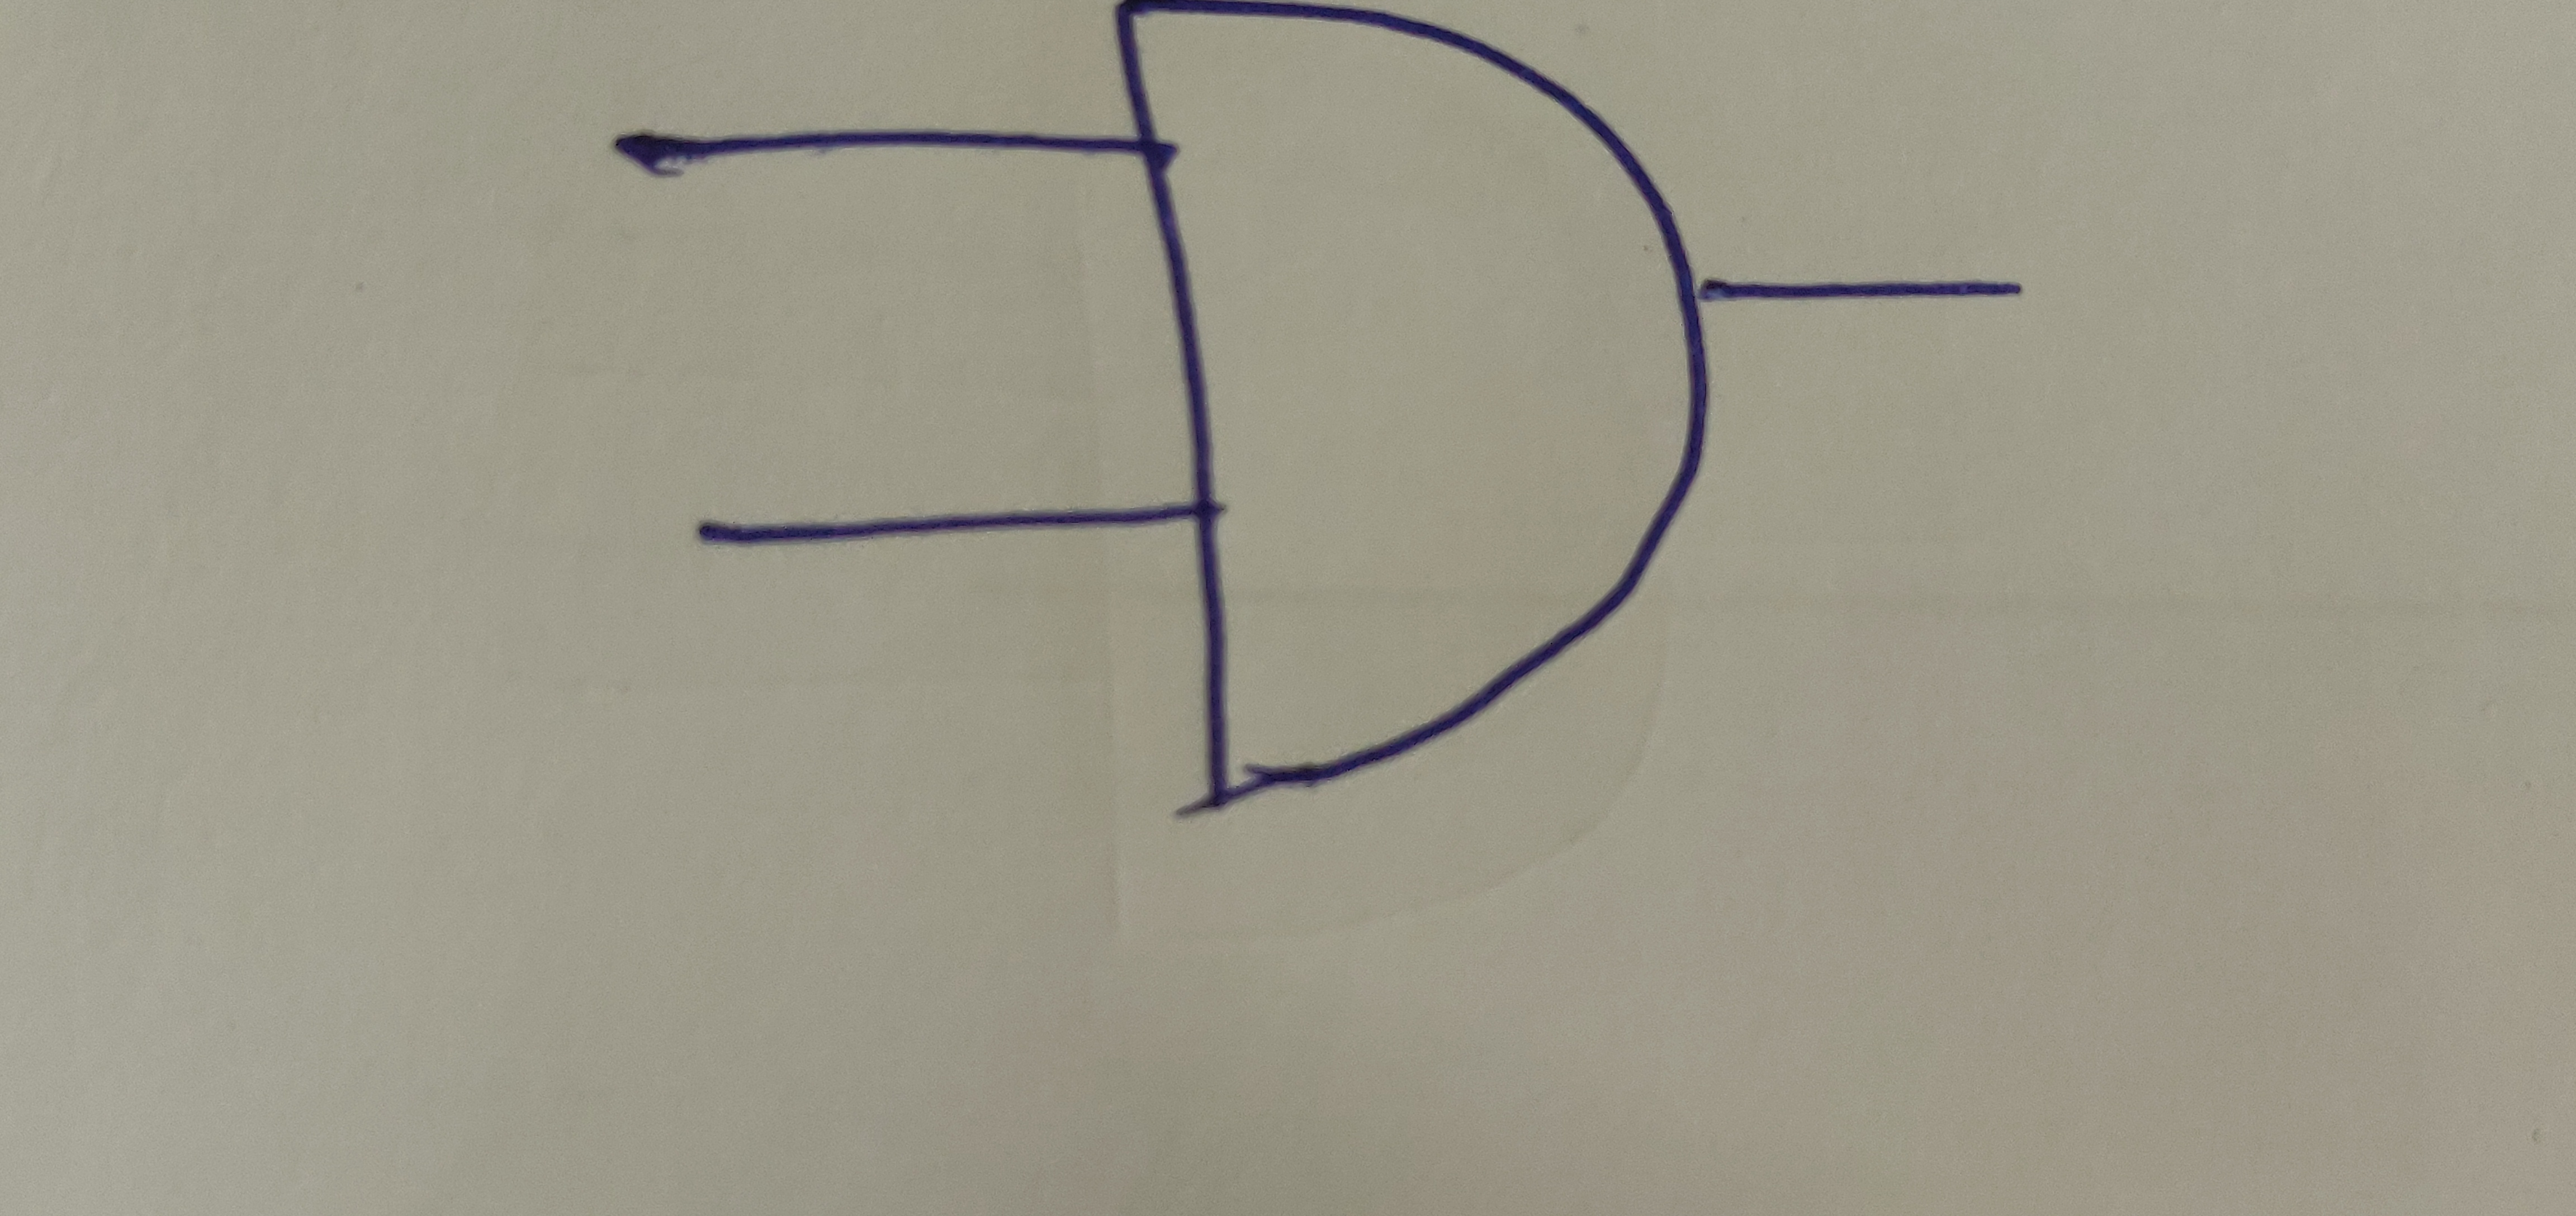and: (1112, 3, 1718, 808)
